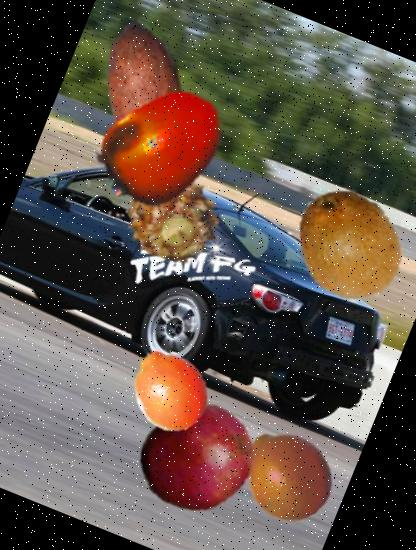Kaki: (76, 62, 248, 232)
Kiwi: (271, 168, 416, 322)
Nut: (48, 0, 239, 185)
Pineapple: (108, 152, 236, 280)
Pomegranate: (120, 380, 271, 531)
Tangelo: (226, 413, 350, 537), (113, 334, 224, 444)
